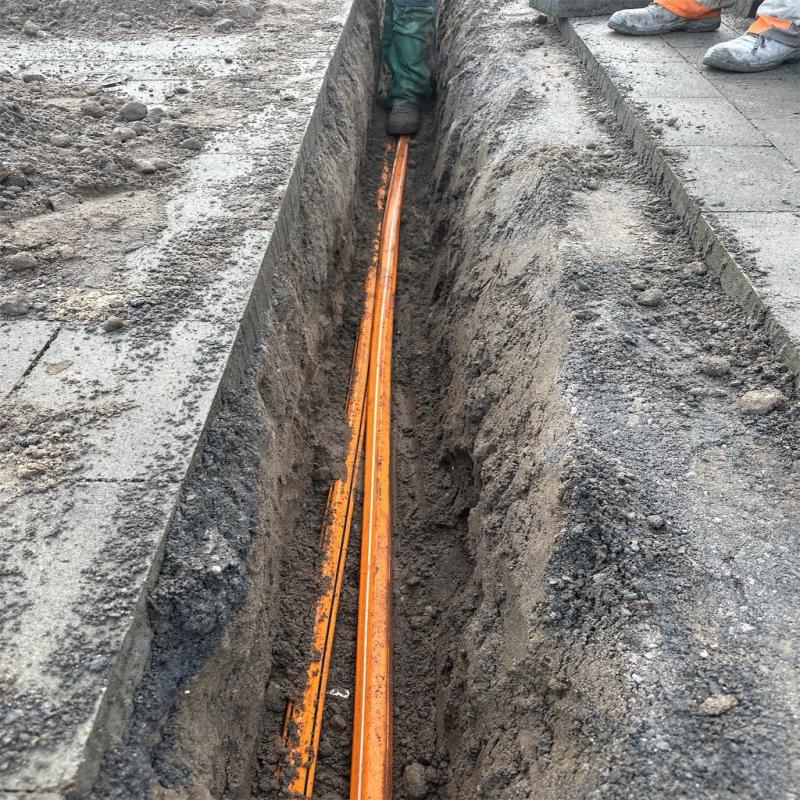Orang-Speednetrohrchen: (278, 139, 410, 798)
